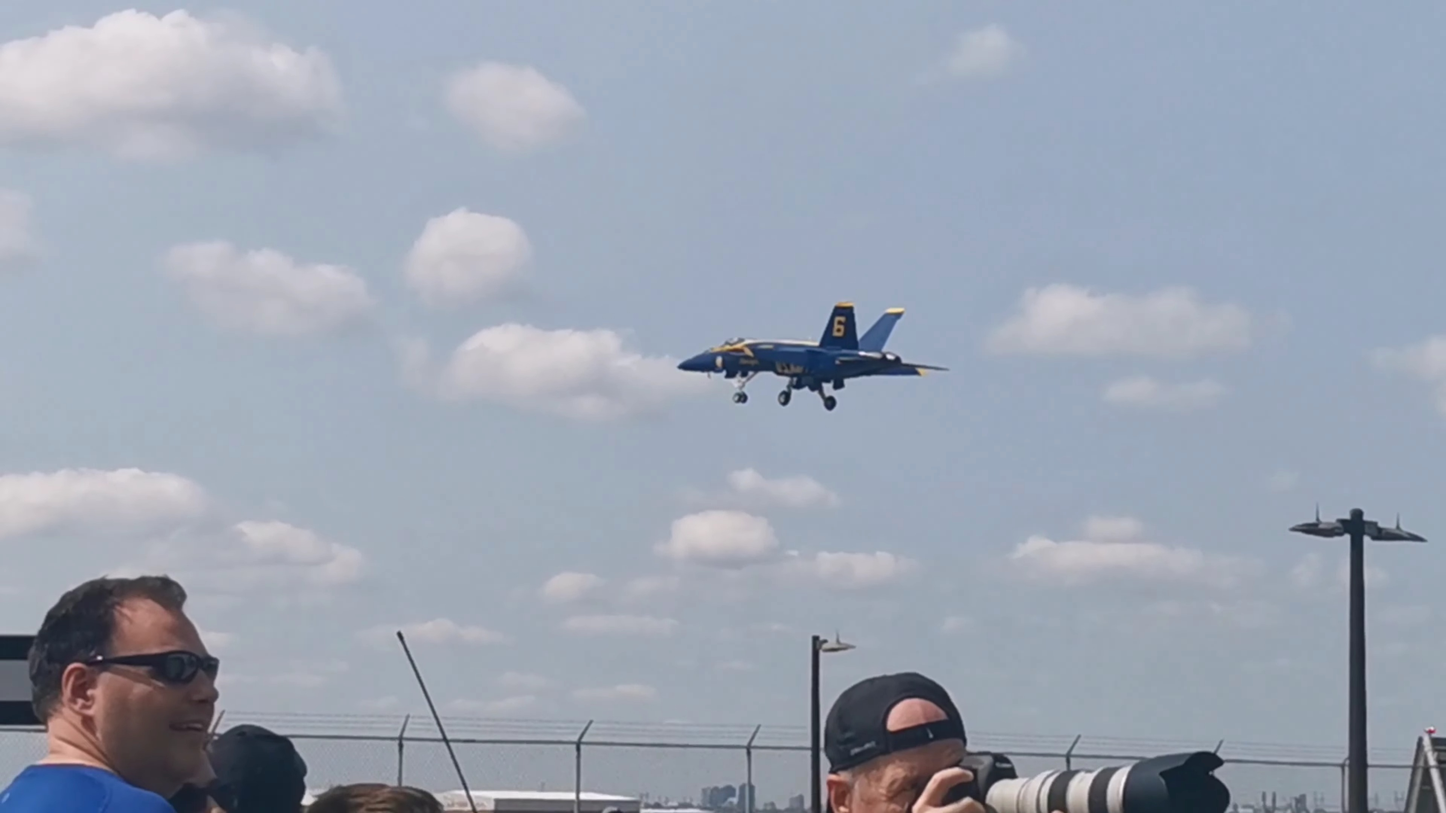airplane: (681, 296, 942, 402)
